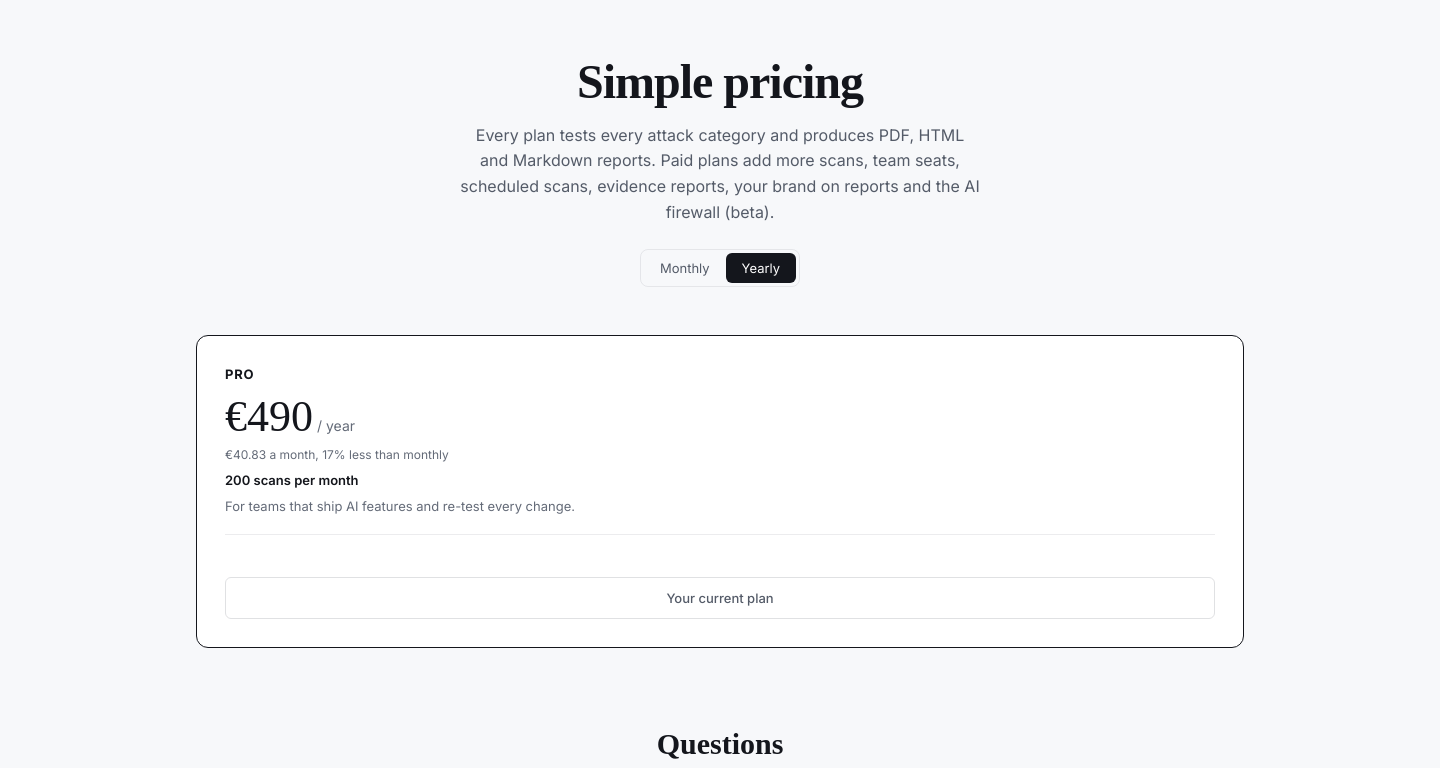
Test: Pricing opens on yearly prices for a yearly subscriber
Expected: the text "€490" is shown, [225,395,313,439]
Expected: the button "Your current plan" is disabled, [225,578,1215,620]
Click the button "Monthly".
click(685, 268)  # box [644,253,726,283]
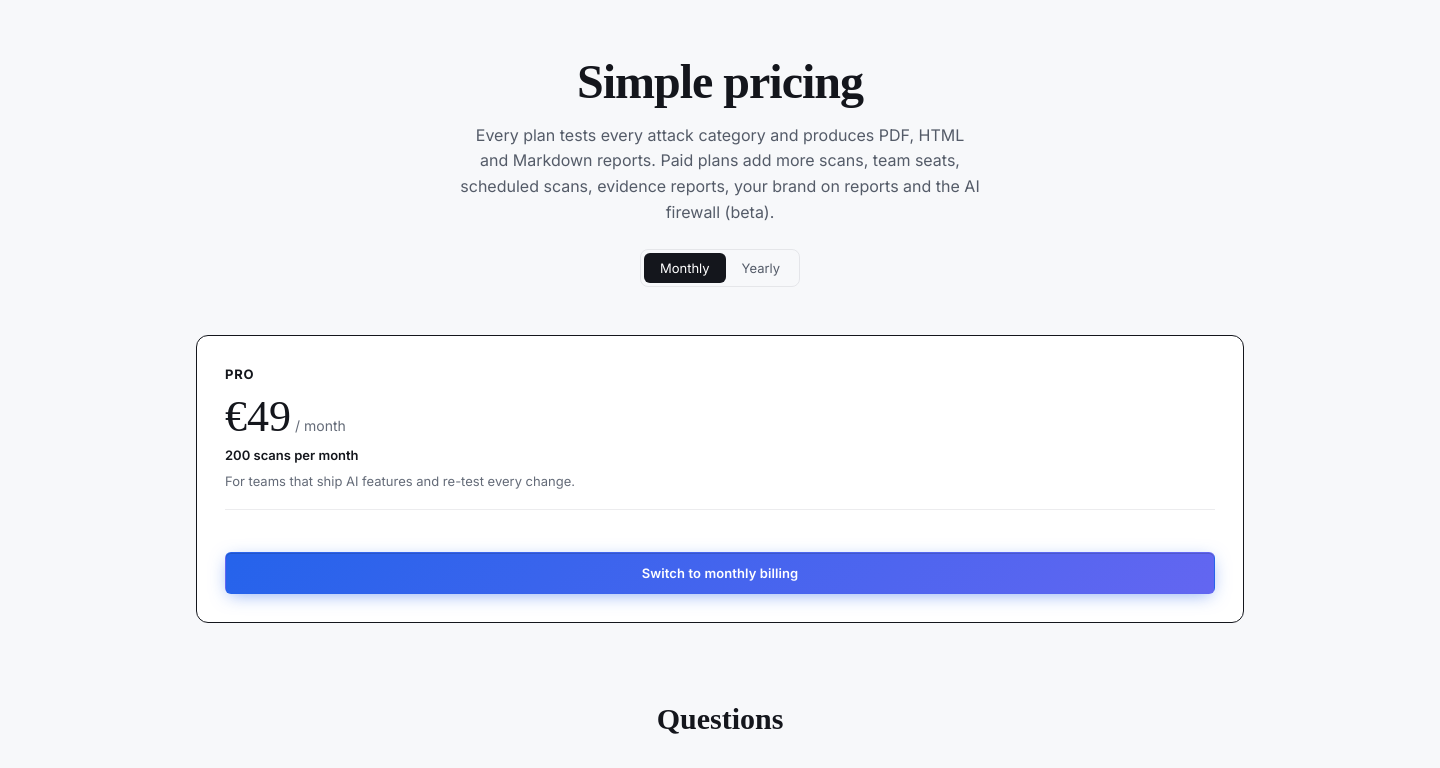
Expected: the button "Switch to monthly billing" is enabled, [225,552,1215,594]
